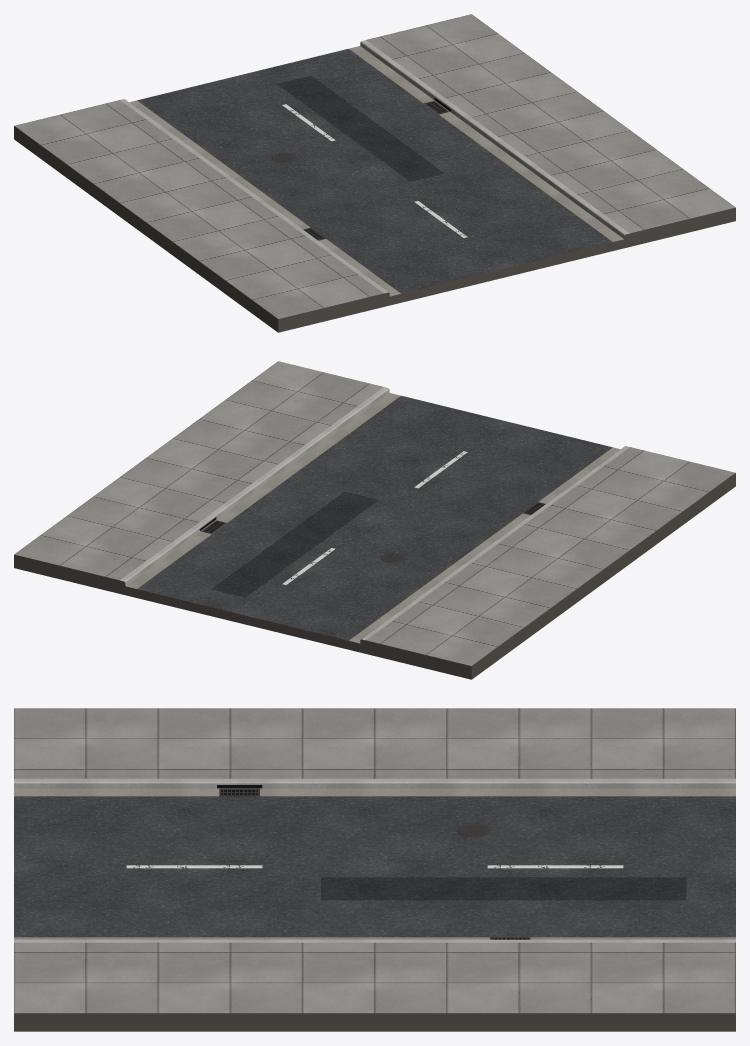
Rendered from road-straight.glb.
3 renders of one model, top to bottom at view 1: azimuth 30°, elevation 25°; view 2: azimuth 150°, elevation 25°; view 3: azimuth 270°, elevation 25°, orthographic. The views are drawn at different scales.
Visible parts, largest first — view 1: Road_Straight; view 2: Road_Straight; view 3: Road_Straight.
Part boxes in pixels (x1,y1,x2,y2): Road_Straight: [14, 14, 735, 332]; Road_Straight: [14, 361, 735, 679]; Road_Straight: [14, 708, 735, 1031].
Size of the model in its own units: 16 by 0.45 by 16.
Materials: 9 (6 with a texture image).
